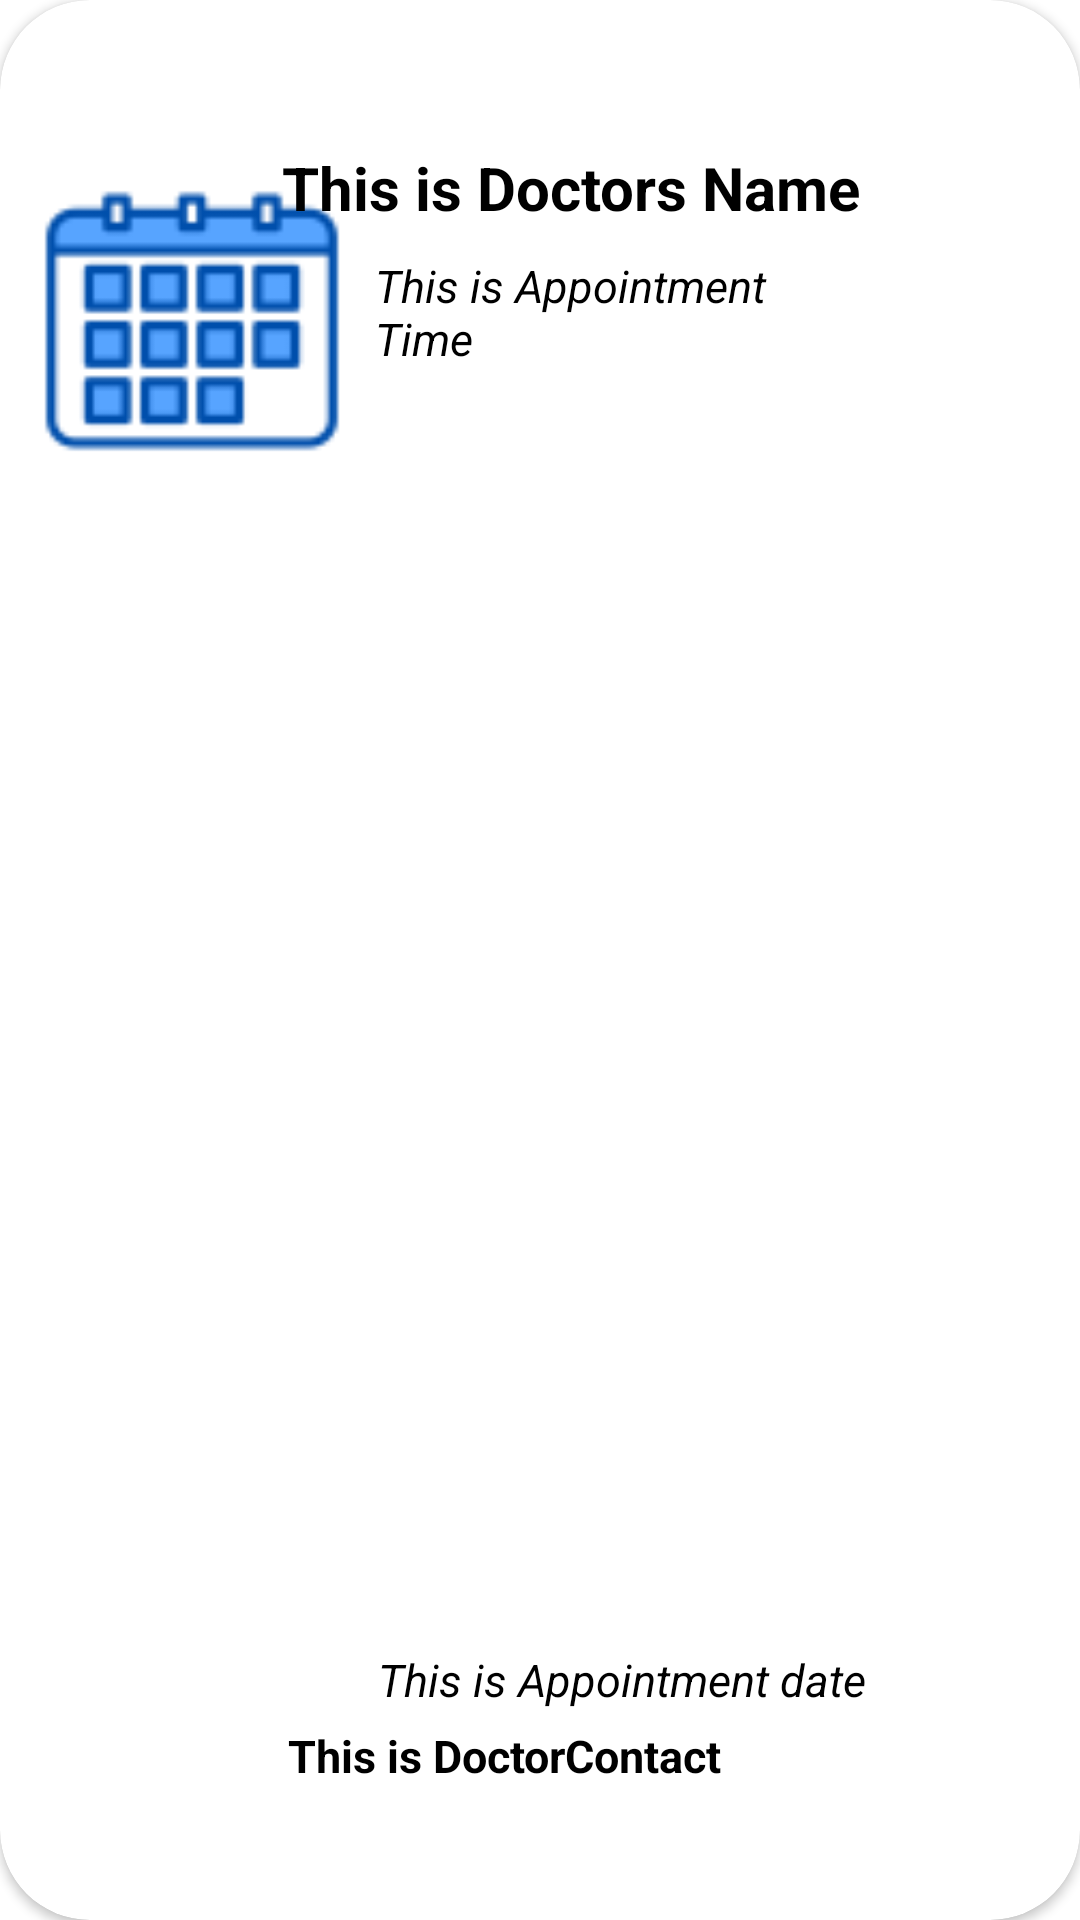

Locate icon controls on the screen. Image size 1080*1920, boxes as box(x1, y1, x2, y2).
calendar: box(81, 262, 303, 426)
